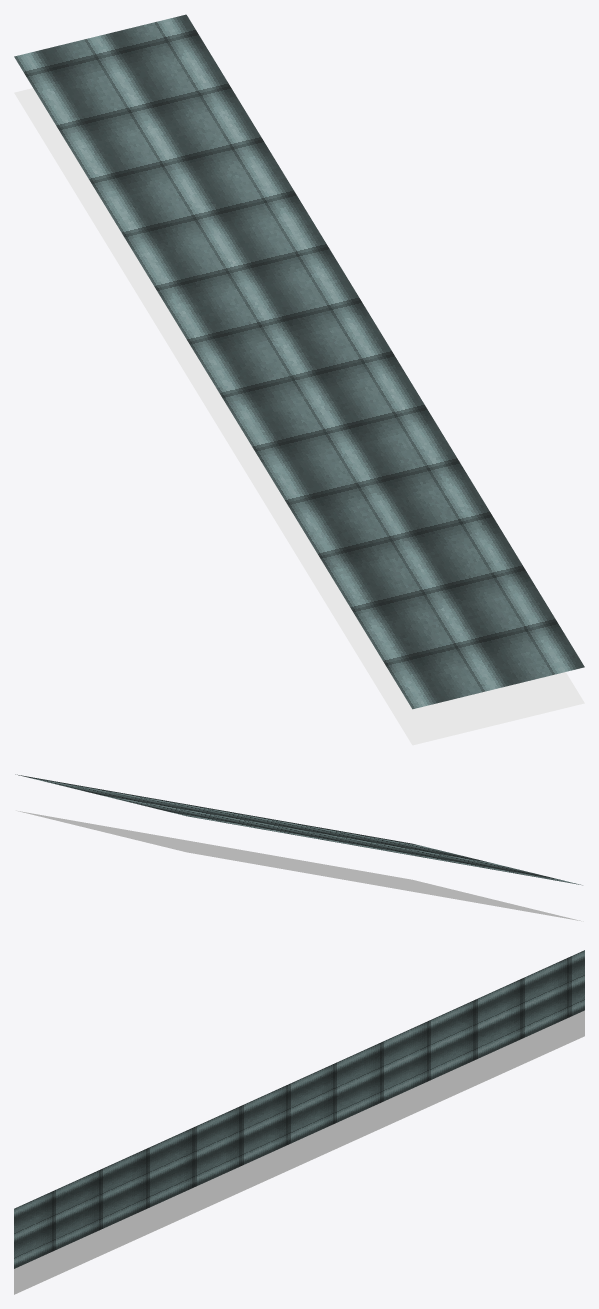
Rendered from roof_mid_1x4.glb.
3 renders of one model, top to bottom at view 1: azimuth 30°, elevation 25°; view 2: azimuth 150°, elevation 25°; view 3: azimuth 270°, elevation 25°, orthographic. The views are drawn at different scales.
Visible parts, largest first — view 1: roof_mid_1x4; view 2: roof_mid_1x4; view 3: roof_mid_1x4.
Boxes of the visible parts, x1,y1,x2,y2 form: roof_mid_1x4: (14,14,584,745); roof_mid_1x4: (15,774,583,921); roof_mid_1x4: (14,950,584,1294).
Size of the model in its own units: 1 by 2.2 by 4.
Materials: 2 (1 with a texture image).
